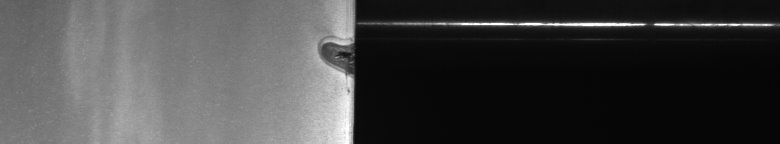hb: (312, 31, 344, 82)
